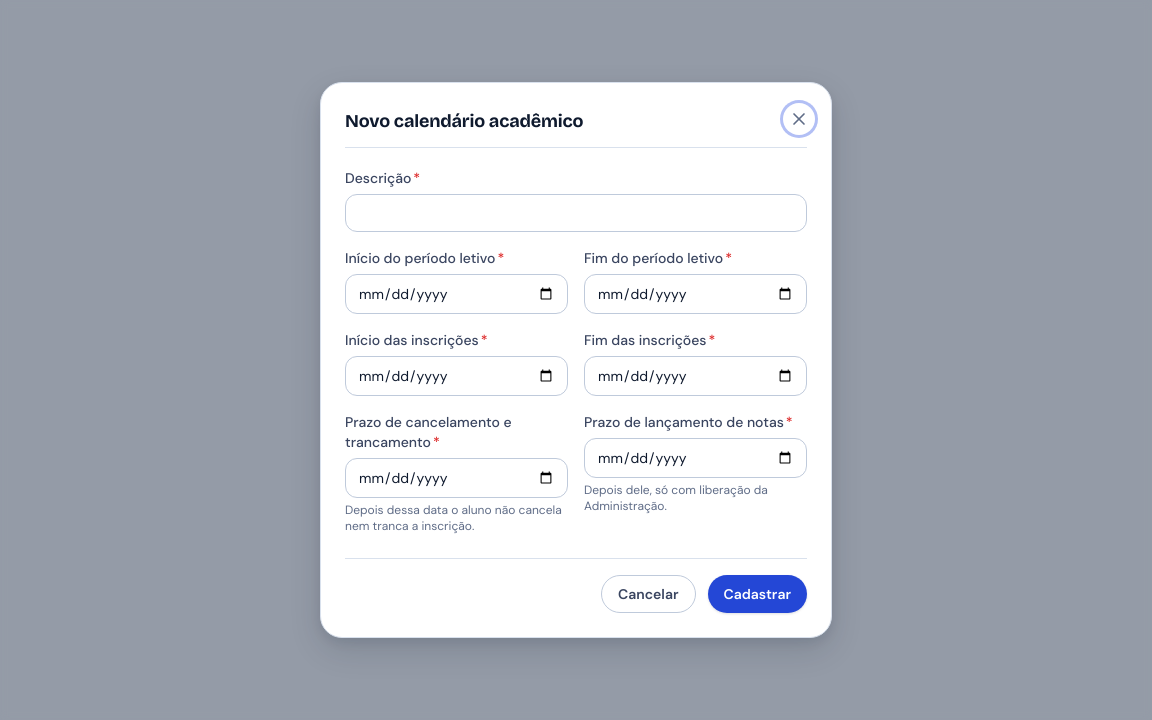
Test: CalendarFormModal › asks for the required dates on a new calendar
This screenshot has width=1152, height=720.
Click the button "Cadastrar" at (757, 594), box x1=708 y1=575 x2=807 y2=613
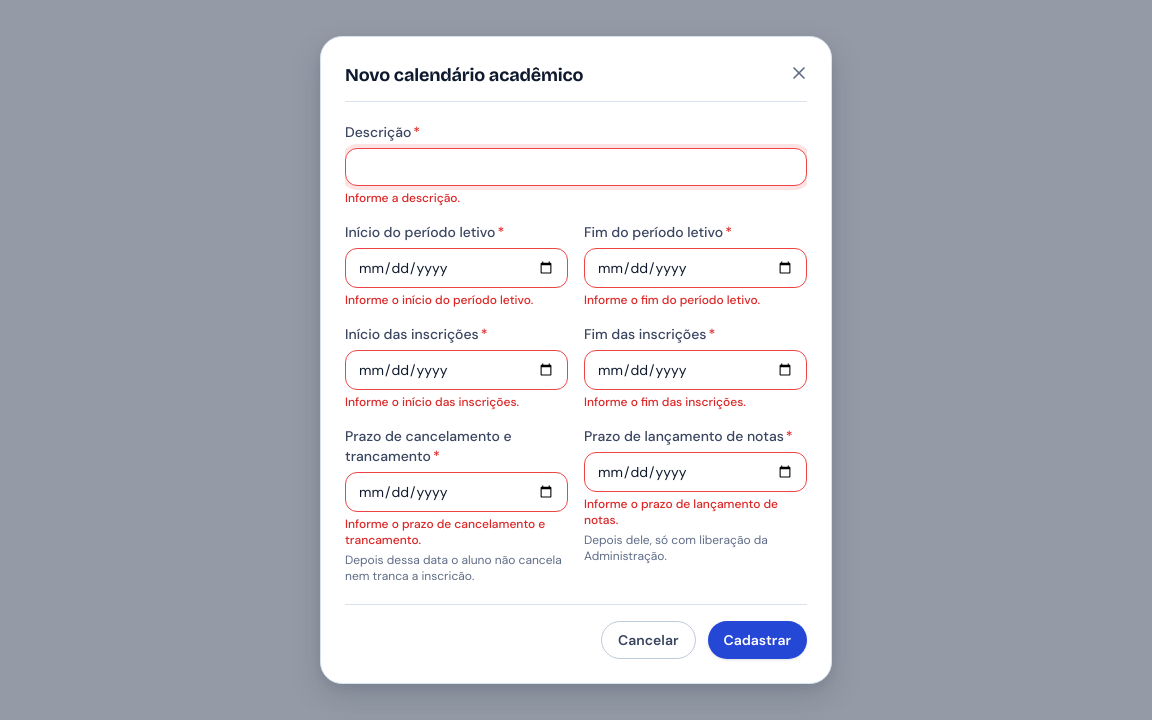
Expected: the text "Informe o prazo de lançamento de notas." is shown, x1=584 y1=496 x2=807 y2=528
